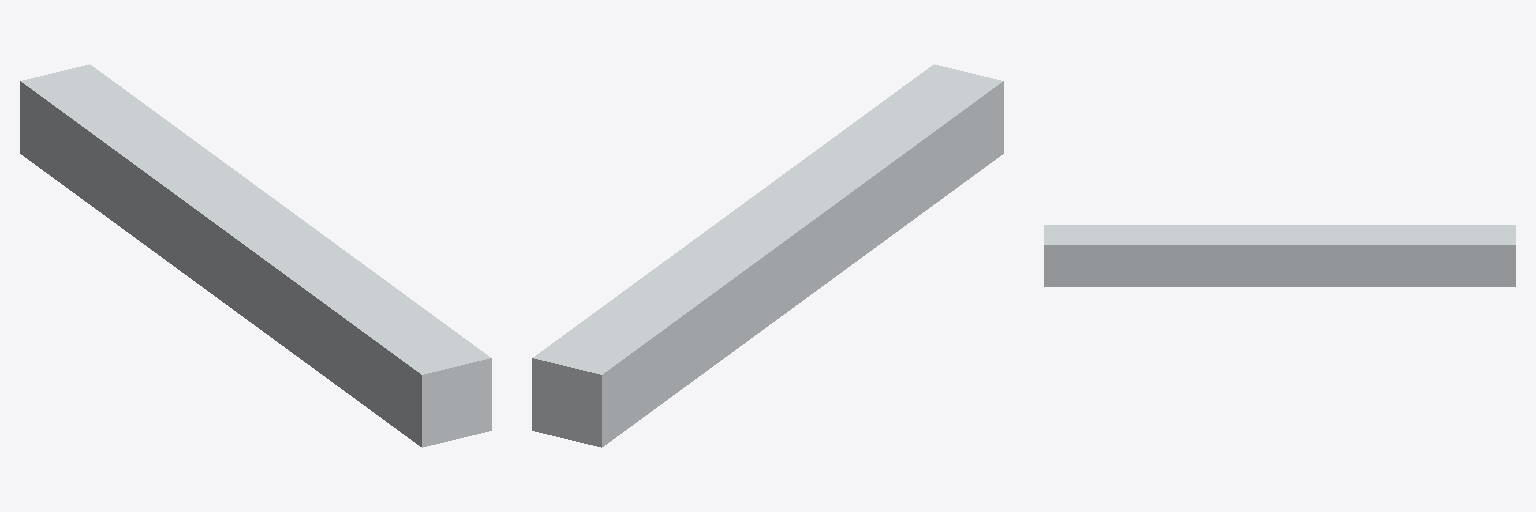
robot.urdf — eoat_nail_grip:
<?xml version="1.0"?>
<robot name="eoat_nail_grip" xmlns:xacro="http://wiki.ros.org/xacro">
    <link name="first_gripper_link">
        <inertial>
            <origin
                    xyz="0 0 0"
                    rpy="0 0 0"/>
            <mass
                    value="1"/>
            <inertia
                    ixx="0"
                    ixy="0"
                    ixz="0"
                    iyy="0"
                    iyz="0"
                    izz="0"/>
        </inertial>
        <visual>
            <origin
                    xyz="0 0 0"
                    rpy="0 0 0"/>
            <geometry>
                <box size="0.1 1 0.1"/>
            </geometry>
            <material
                    name="">
                <color
                        rgba="0.89804 0.91765 0.92941 1"/>
            </material>
        </visual>
        <collision>
            <origin xyz="0 0 0" rpy="0 0 0"/>
            <geometry>
                <box size="0.1 1 0.1"/>
            </geometry>
            <material name="red"/>
        </collision>
    </link>
</robot>

--- What the picture shows (computed from the rendered views, not written in the file) ---
Views: 3 orthographic renders of the robot side by side, from view 1: azimuth 30°, elevation 25°; view 2: azimuth 150°, elevation 25°; view 3: azimuth 270°, elevation 25°.
Model eoat_nail_grip with 1 links and 0 joints (none), rooted at first_gripper_link, posed all joints at 0.
Links seen in each view (by area): view 1: first_gripper_link; view 2: first_gripper_link; view 3: first_gripper_link.
Link boxes in pixels (left/top/right/bottom): first_gripper_link: left=20, top=64, right=491, bottom=447; first_gripper_link: left=532, top=64, right=1003, bottom=447; first_gripper_link: left=1044, top=225, right=1515, bottom=286.
Bounding box of the posed robot: 0.1 × 1 × 0.1 m (x, y, z).
Geometry: primitives only (box / cylinder / sphere), no mesh files.